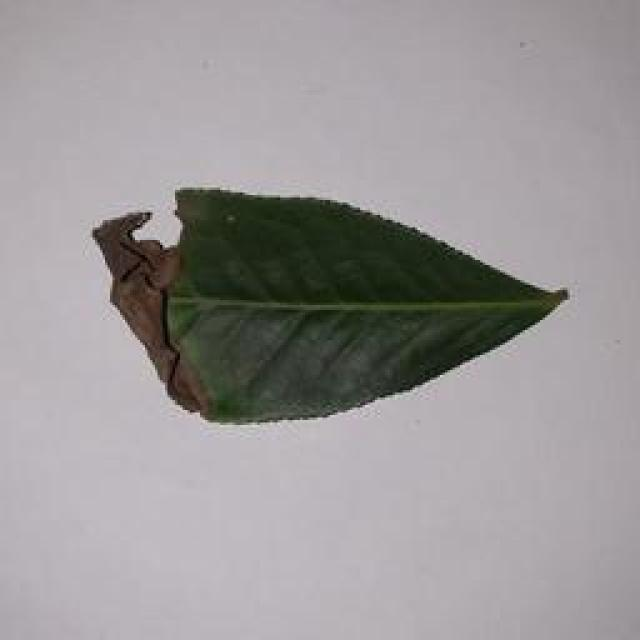Brown Blight: (75, 168, 580, 436)
